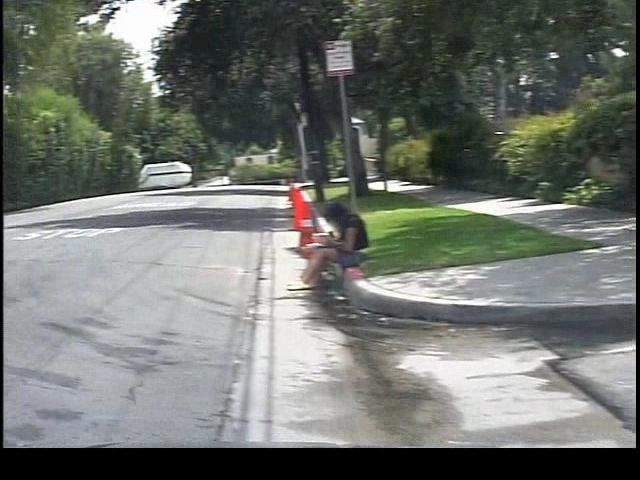person: (273, 197, 364, 293)
